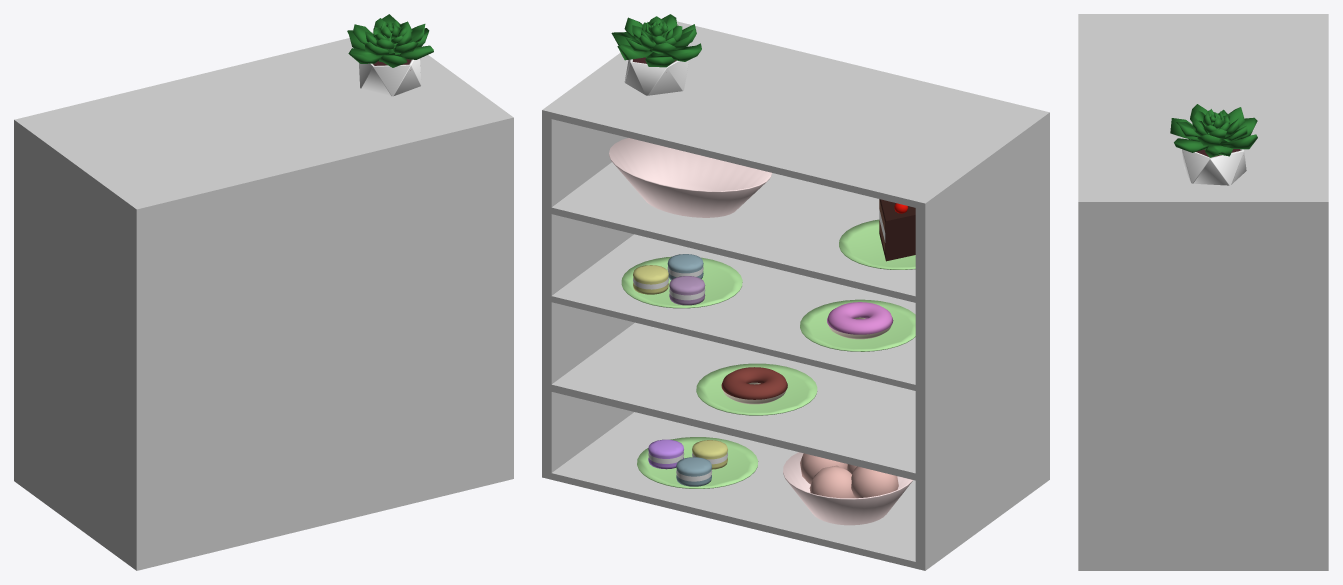
Rendered from GlassShelf 1.fbx.
The picture shows the model from 3 angles, left to right: view 1: azimuth 30°, elevation 25°; view 2: azimuth 150°, elevation 25°; view 3: azimuth 270°, elevation 25°; orthographic projection. The views are drawn at different scales.
Visible parts, largest first — view 1: GlassShelf, succulent plant; view 2: GlassShelf, Plates, DonutHoleBowl, succulent plant, DonutHoles, Macarons1, Macarons2, BrownDonut, PinkDonut, Cake; view 3: GlassShelf, succulent plant.
Boxes of the visible parts, <box> form: GlassShelf: <box>14,32,513,570</box>; succulent plant: <box>347,14,433,96</box>; GlassShelf: <box>542,21,1049,570</box>; Plates: <box>621,219,915,488</box>; DonutHoleBowl: <box>609,138,913,525</box>; succulent plant: <box>611,14,701,95</box>; DonutHoles: <box>800,453,898,498</box>; Macarons1: <box>633,254,705,305</box>; Macarons2: <box>648,439,727,486</box>; BrownDonut: <box>721,367,787,404</box>; PinkDonut: <box>827,302,893,339</box>; Cake: <box>879,199,915,261</box>; GlassShelf: <box>1078,14,1328,570</box>; succulent plant: <box>1170,104,1257,185</box>.
Bounding box in the file's own units: 116 × 124 × 65.17.
